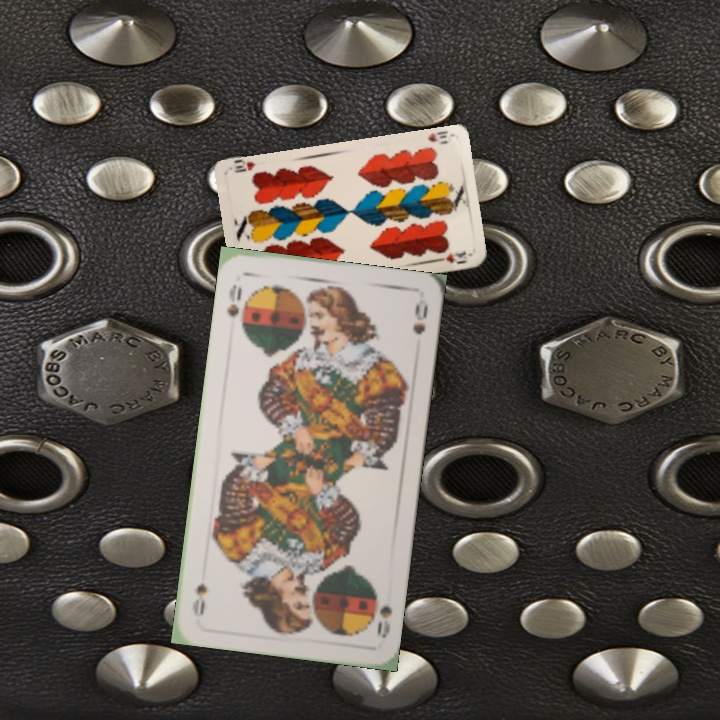H10: (424, 127, 450, 144)
SO: (367, 583, 395, 641), (222, 281, 245, 319)
